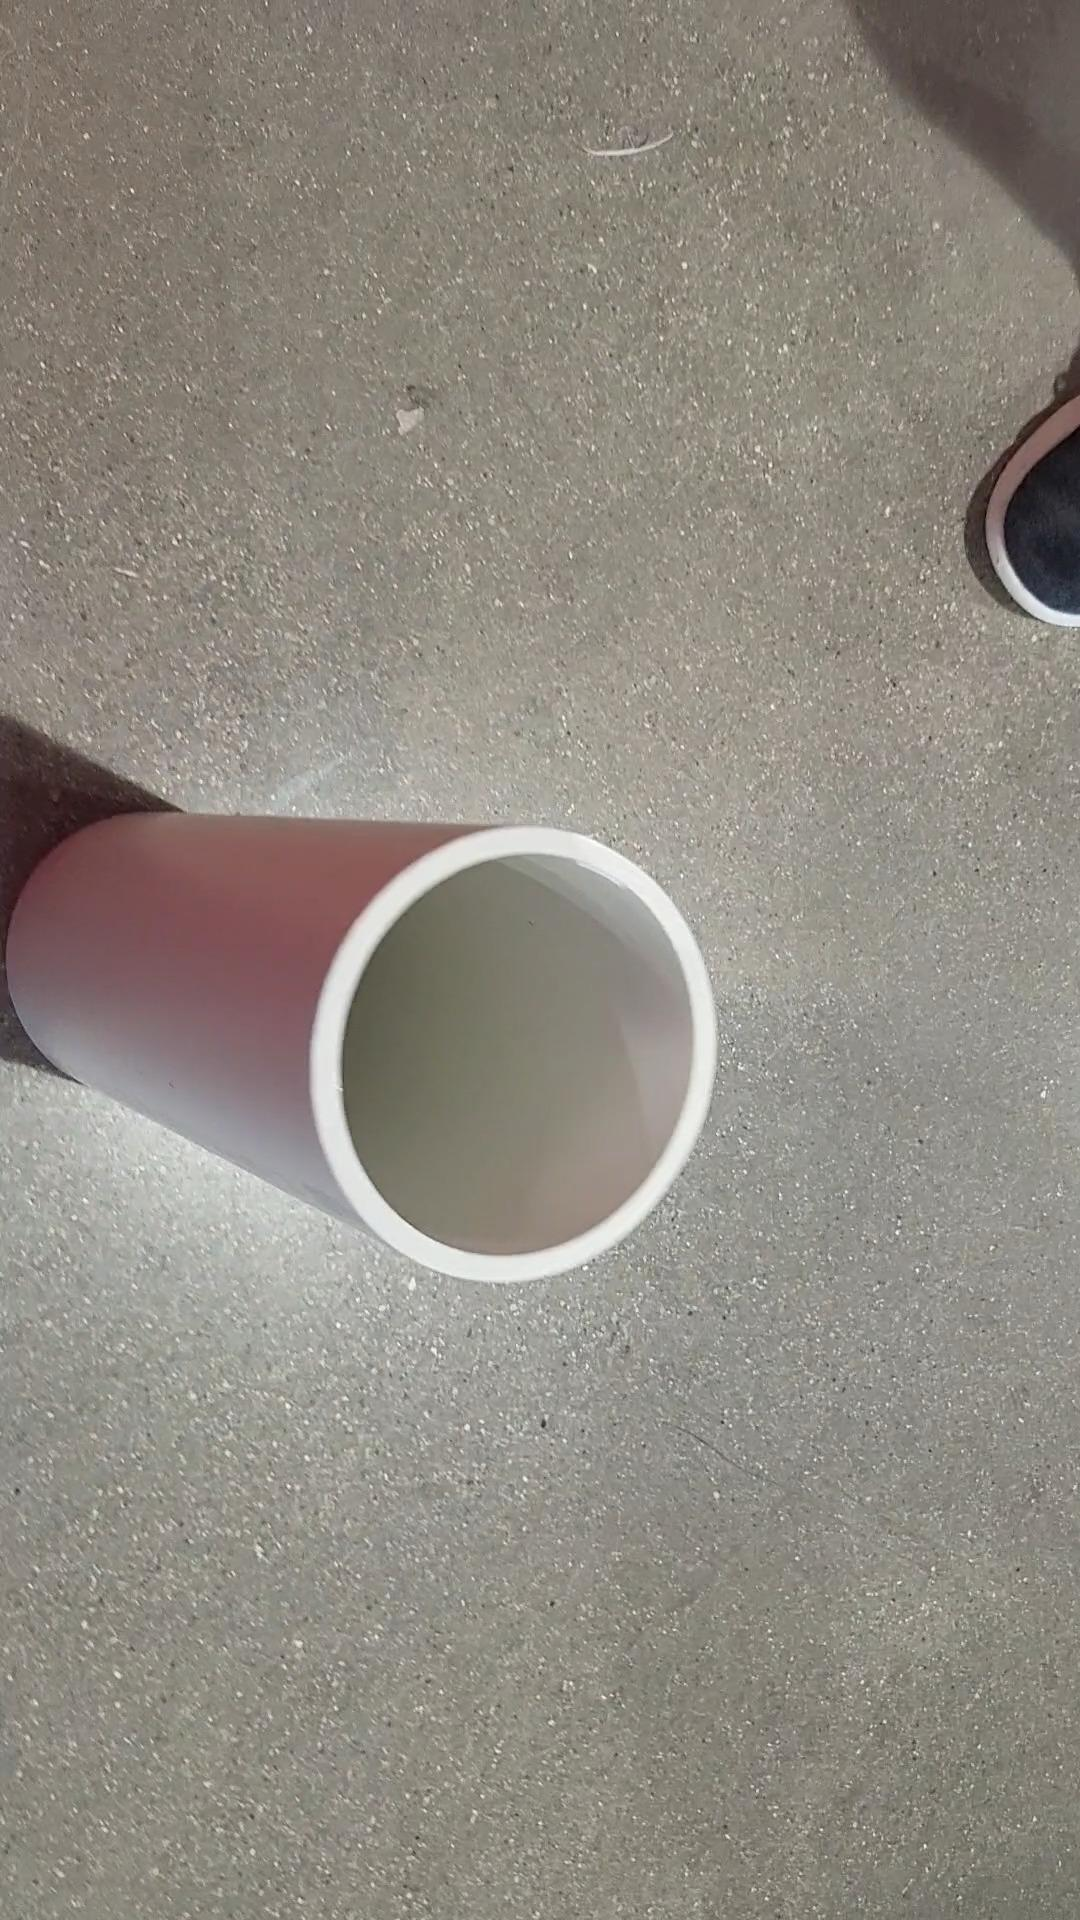coral: (0, 787, 713, 1290)
